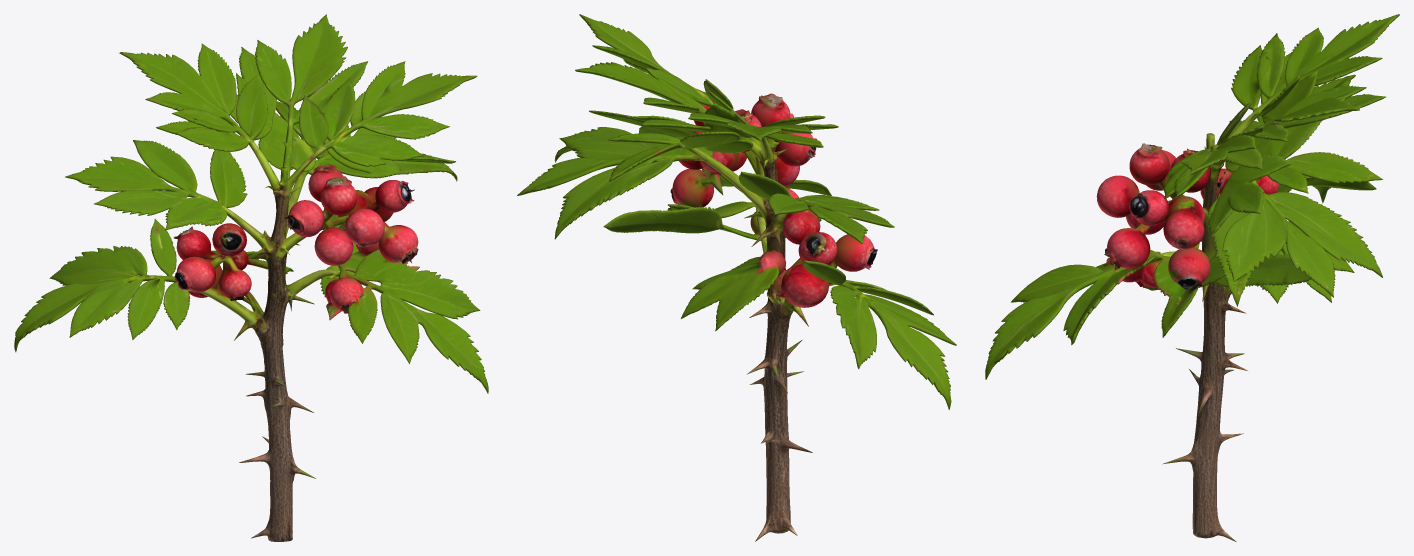
The model's file is huajiao.glb.
3 views of the same model, side by side, from view 1: azimuth 30°, elevation 25°; view 2: azimuth 150°, elevation 25°; view 3: azimuth 270°, elevation 25° (orthographic). The views are drawn at different scales.
Visible parts, largest first — view 1: node_0; view 2: node_0; view 3: node_0.
Part boxes in pixels (left/top/right/bottom): node_0: left=14, top=14, right=488, bottom=541; node_0: left=517, top=14, right=956, bottom=541; node_0: left=985, top=14, right=1399, bottom=541.
Size of the model in its own units: 0.8554 by 0.9113 by 0.6967.
1 material, 1 textured.
